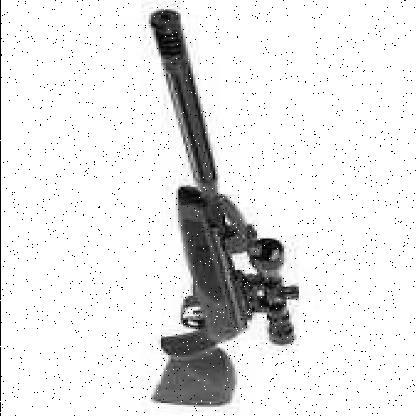rifle: (106, 4, 308, 411)
